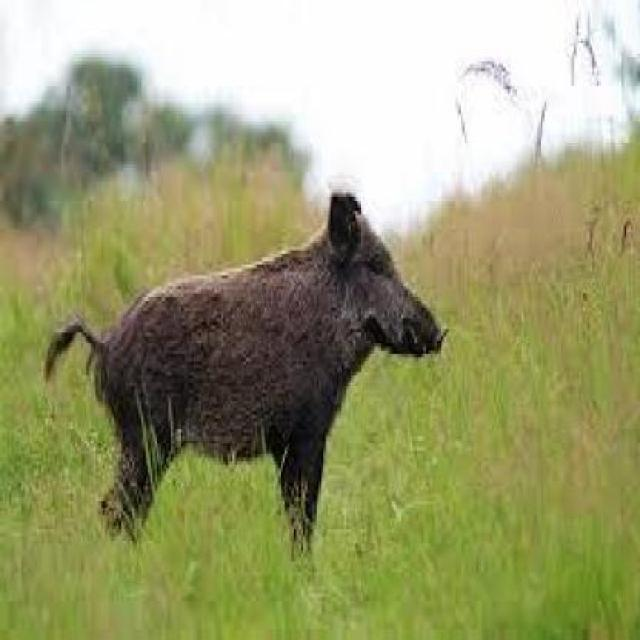wildboar: (41, 186, 454, 552)
